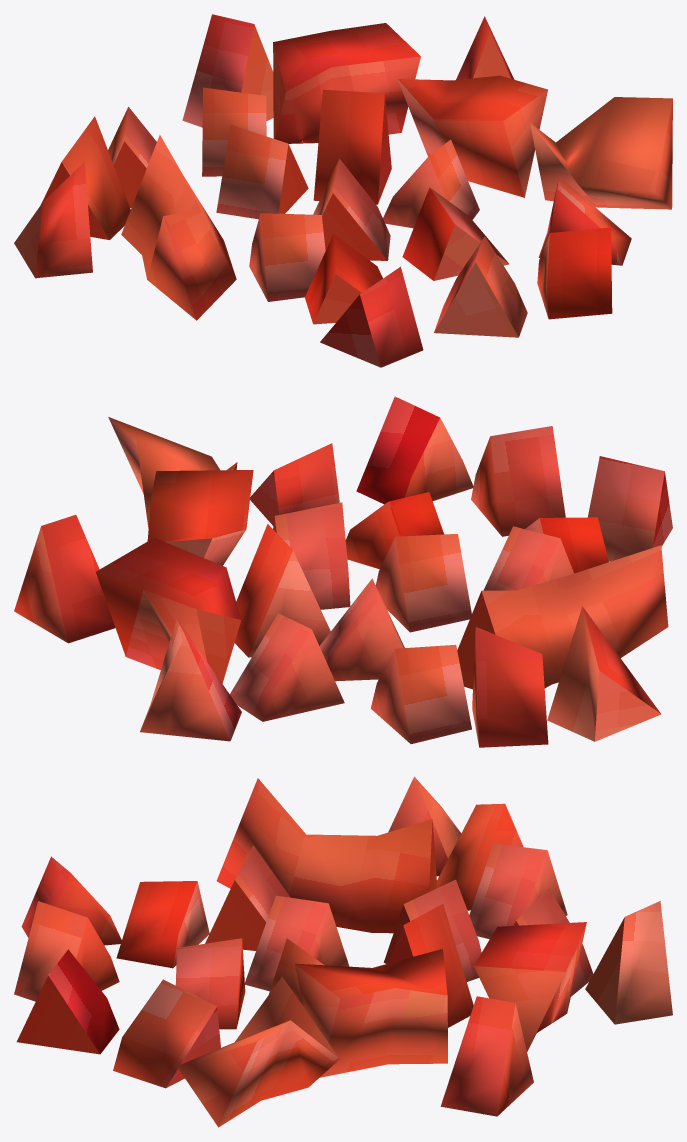
Rendered from DicedVegetable.fbx.
3 renders of one model, top to bottom at view 1: azimuth 30°, elevation 25°; view 2: azimuth 150°, elevation 25°; view 3: azimuth 270°, elevation 25°, orthographic. The views are drawn at different scales.
Visible parts, largest first — view 1: DicedTomato; view 2: DicedTomato; view 3: DicedTomato.
Part boxes in pixels (x1=…): DicedTomato: x1=14, y1=14, x2=672, y2=367; DicedTomato: x1=14, y1=396, x2=672, y2=747; DicedTomato: x1=14, y1=776, x2=672, y2=1127.
Size of the model in its own units: 25.79 by 4.35 by 24.81.
